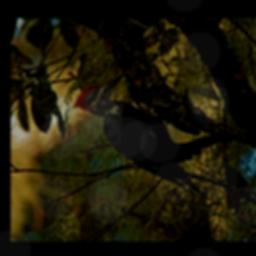Woodpecker: (72, 73, 206, 195)
